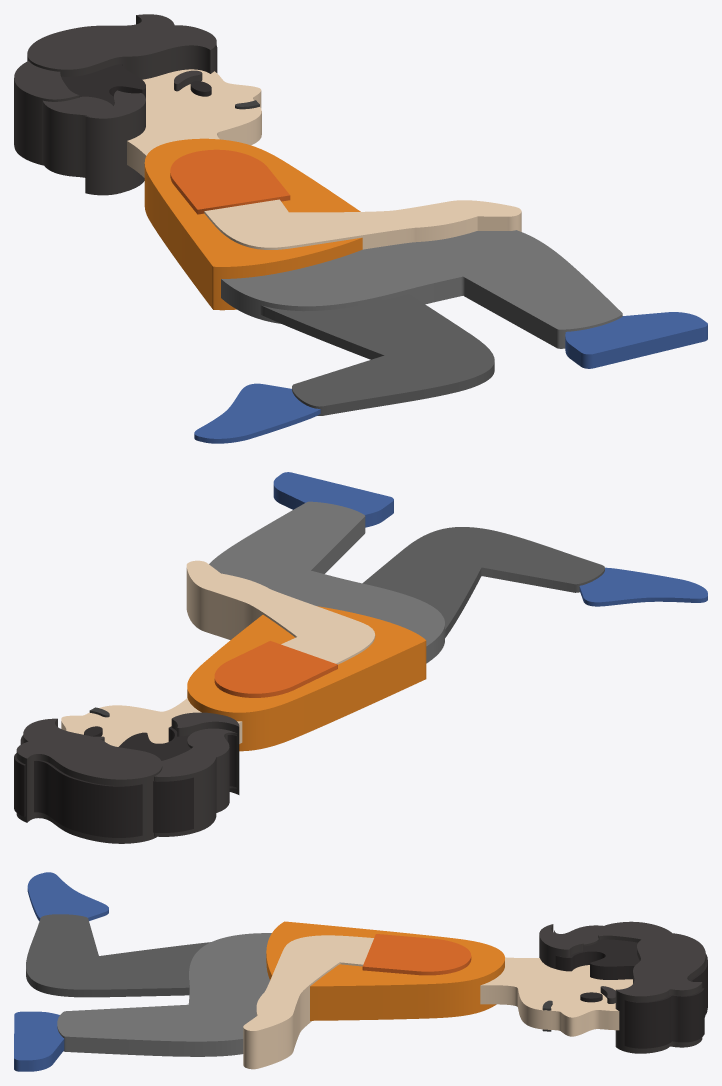
The model's file is emoji_u1f9ce_1f3fb_200d_27a1.glb.
3 renders of one model, top to bottom at view 1: azimuth 30°, elevation 25°; view 2: azimuth 150°, elevation 25°; view 3: azimuth 270°, elevation 25°, orthographic. The views are drawn at different scales.
Parts seen in each view (by area): view 1: emoji_u1f9ce_1f3fb_200d_27a1; view 2: emoji_u1f9ce_1f3fb_200d_27a1; view 3: emoji_u1f9ce_1f3fb_200d_27a1.
Boxes of the visible parts, x1,y1,x2,y2 form: emoji_u1f9ce_1f3fb_200d_27a1: (14,14,707,443); emoji_u1f9ce_1f3fb_200d_27a1: (14,472,707,843); emoji_u1f9ce_1f3fb_200d_27a1: (14,872,707,1071).
Size of the model in its own units: 0.0215 by 0.0032 by 0.0329.
